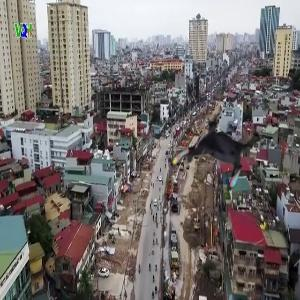drone: (176, 108, 263, 195)
